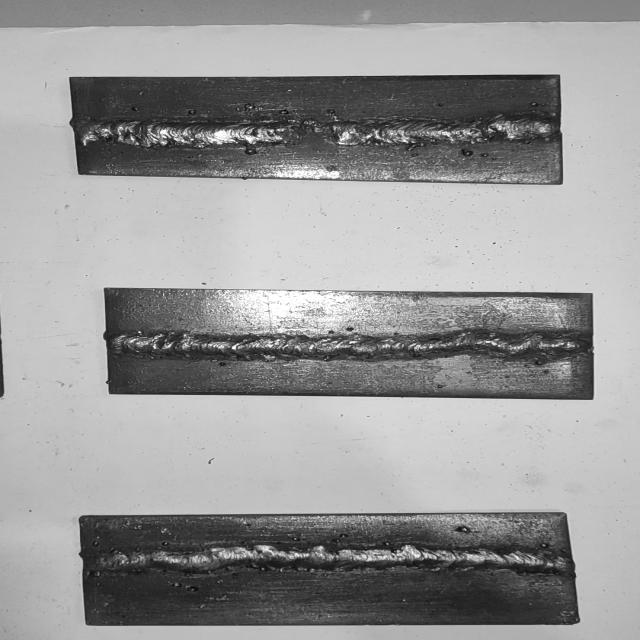Bad Weld: (76, 118, 554, 144)
Defect: (276, 112, 353, 152)
Good Weld: (113, 331, 591, 360), (91, 548, 569, 576)
